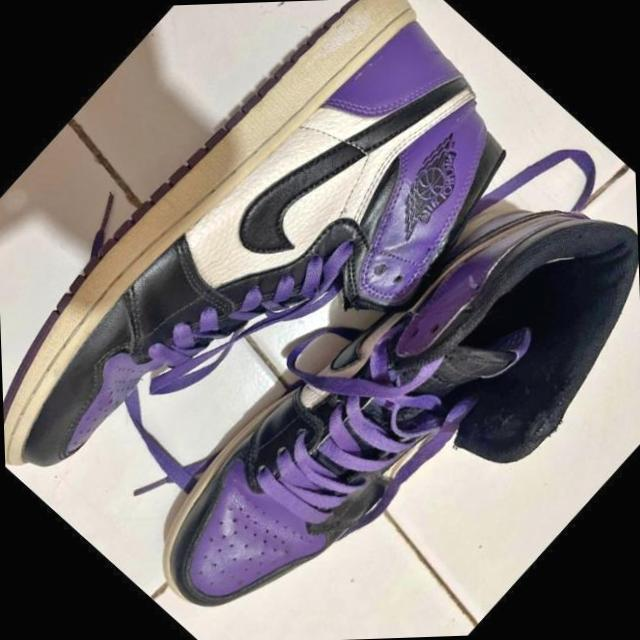nike_original_jordan: (0, 0, 567, 598), (114, 116, 640, 640)
